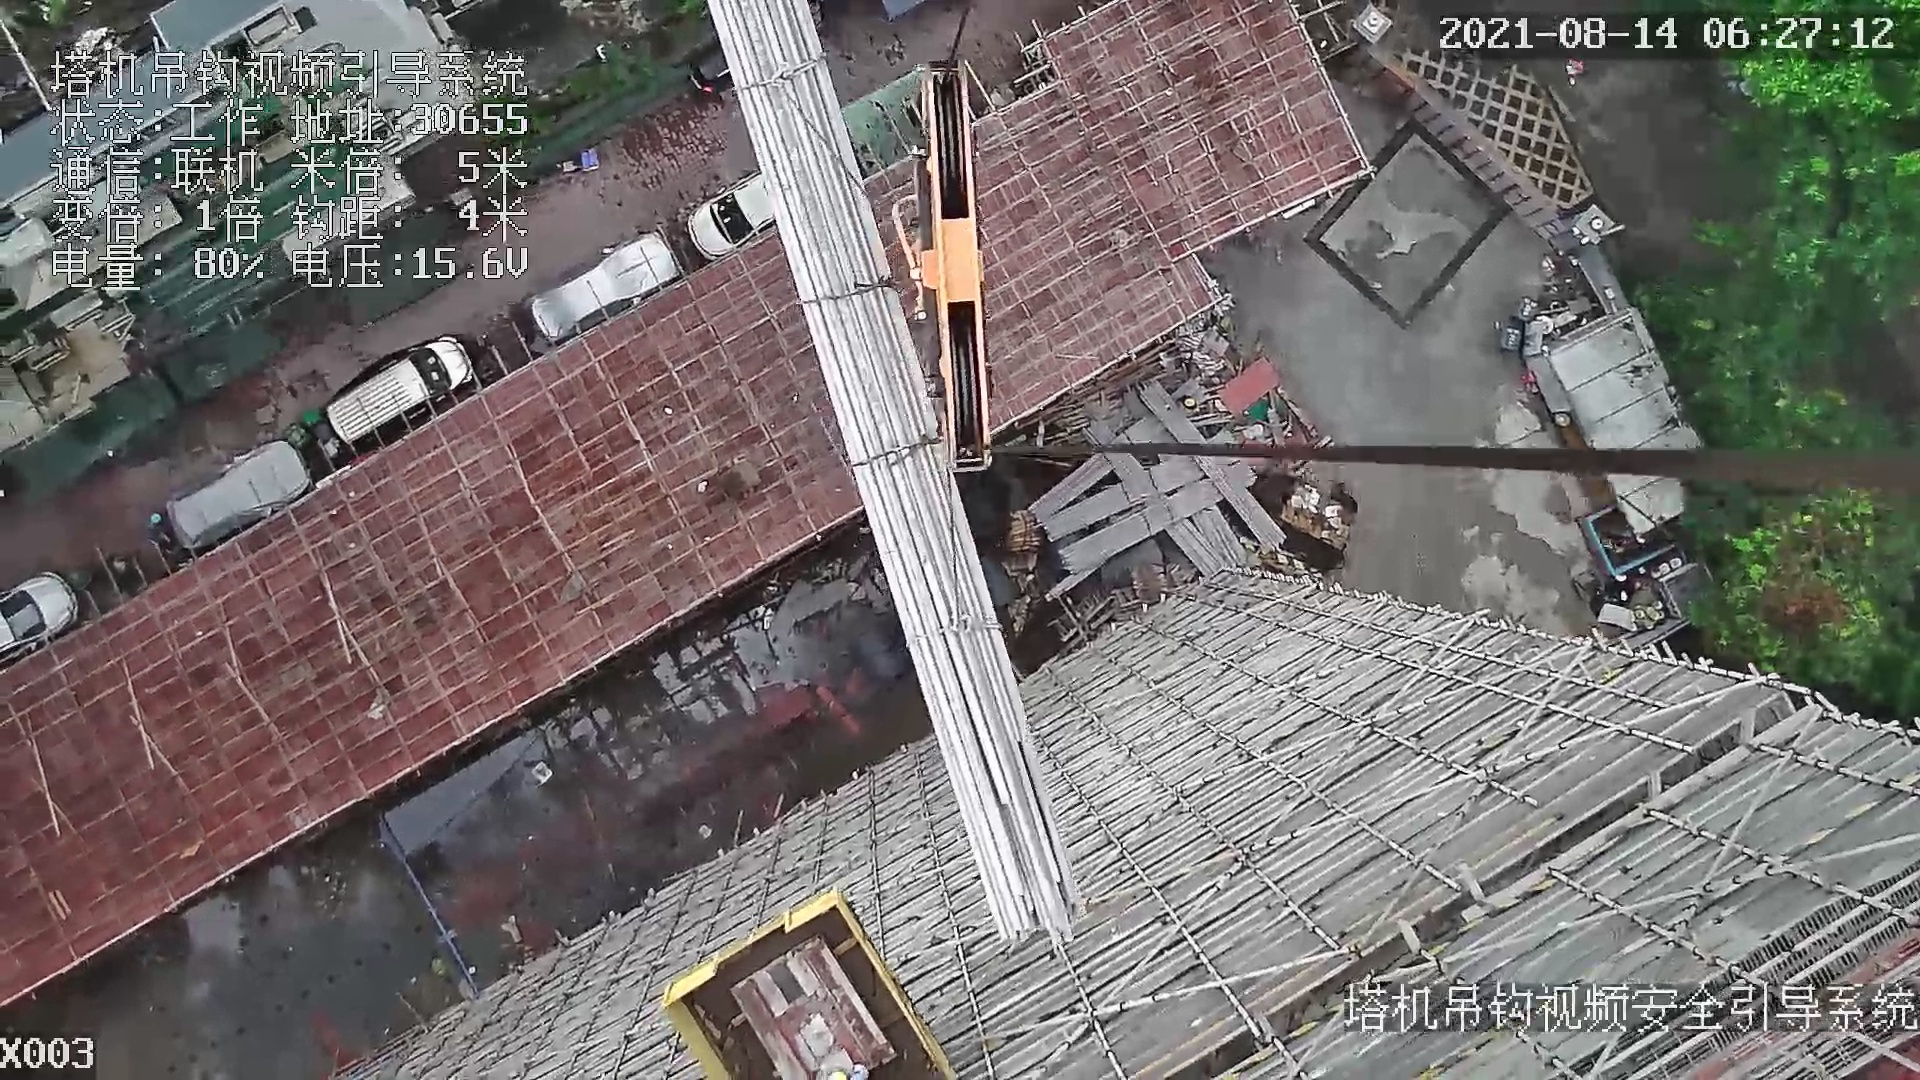hook: (910, 57, 1004, 473)
